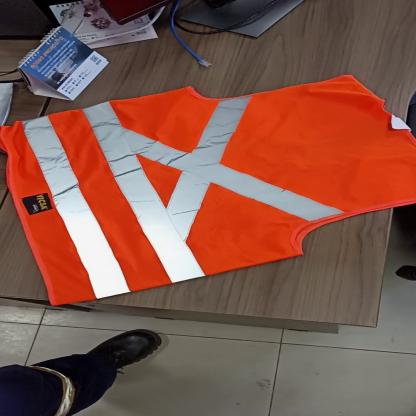colete: (0, 73, 416, 306)
